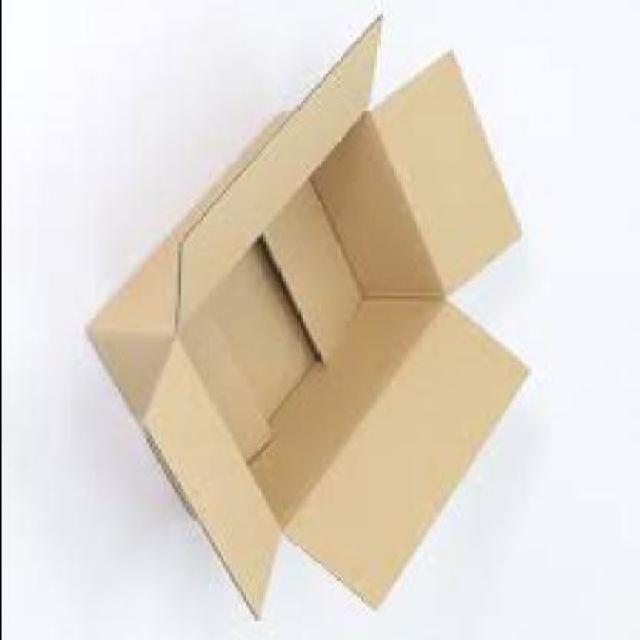CARDBOARD: (92, 9, 534, 618)
